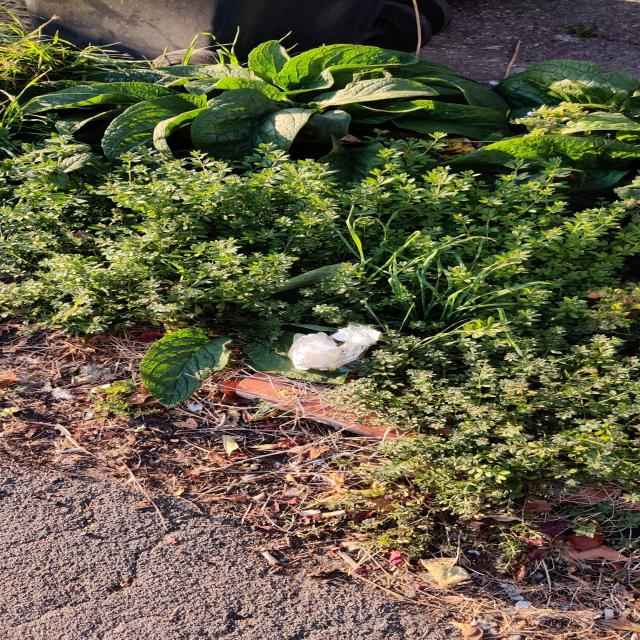litter: (282, 322, 385, 377)
